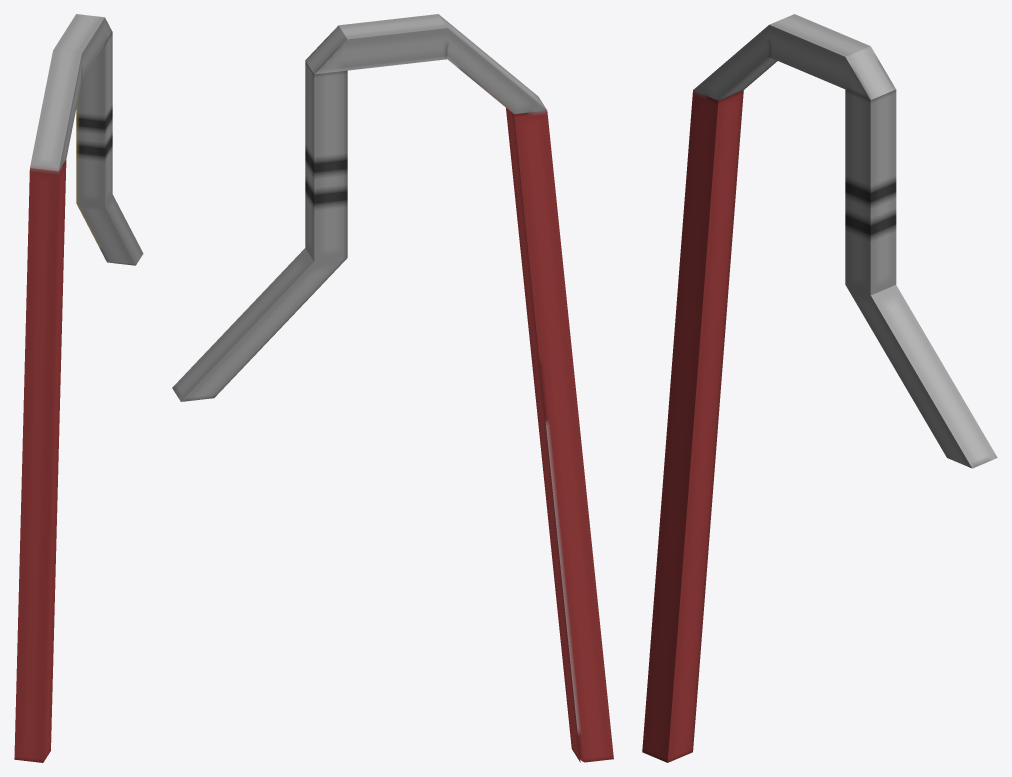
File: atlas_rope.obj
The picture shows the model from 3 angles, left to right: view 1: azimuth 30°, elevation 25°; view 2: azimuth 150°, elevation 25°; view 3: azimuth 270°, elevation 25°; orthographic projection. The views are drawn at different scales.
Visible parts, largest first — view 1: atlas_rope; view 2: atlas_rope; view 3: atlas_rope.
Part boxes in pixels (x1,y1,x2,y2): atlas_rope: (14,14,143,762); atlas_rope: (172,14,613,762); atlas_rope: (642,14,997,762).
Bounding box in the file's own units: 2.47 × 6 × 2.47.
